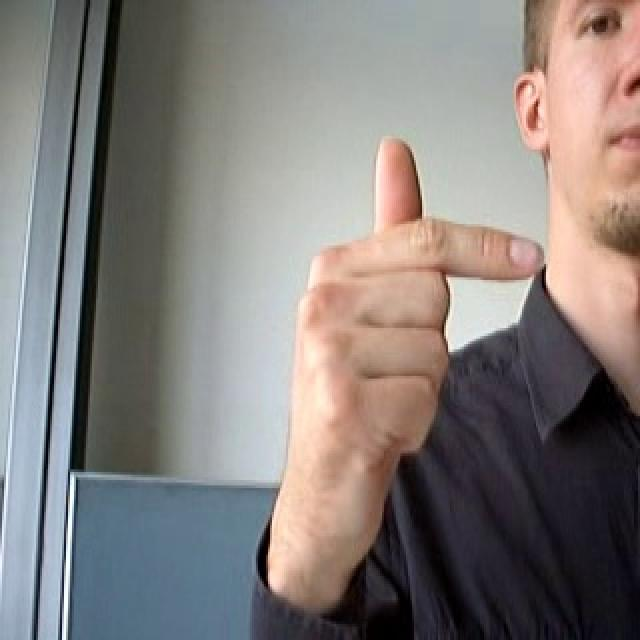T: (276, 127, 560, 551)
